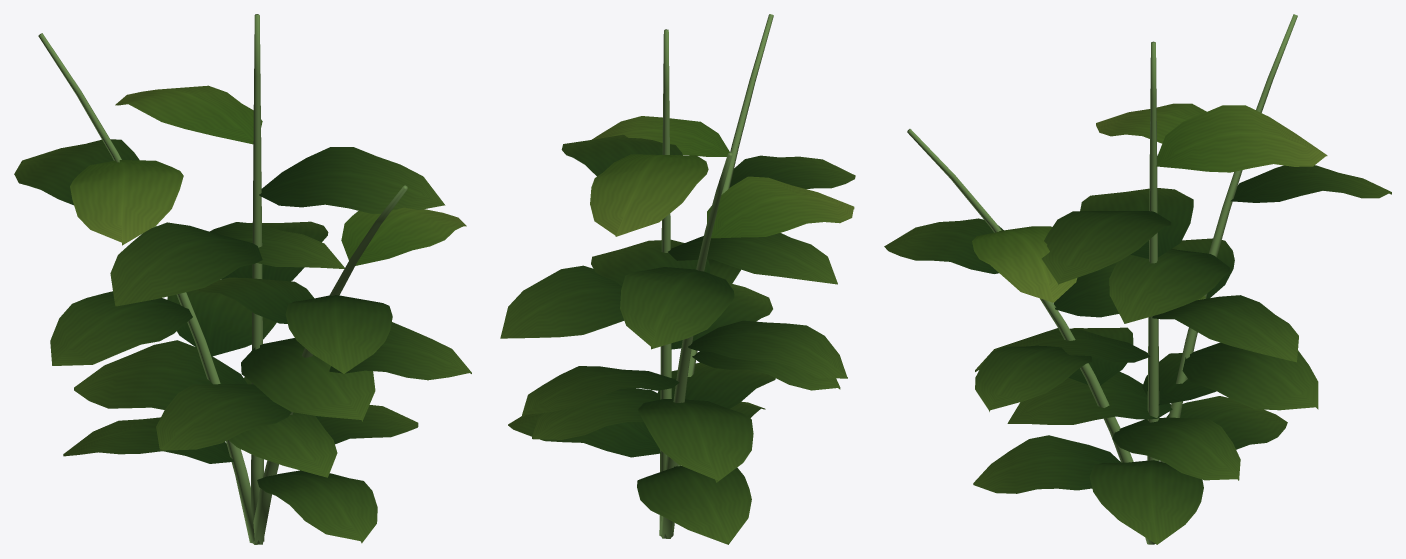
File: poppy-06-lod.glb
3 renders of one model, left to right at view 1: azimuth 30°, elevation 25°; view 2: azimuth 150°, elevation 25°; view 3: azimuth 270°, elevation 25°, orthographic. The views are drawn at different scales.
Visible parts, largest first — view 1: poppy_stage_06_leaf_veins.011, poppy_stage_06_young_leaf.011, poppy_stage_06_stem_fibres.011; view 2: poppy_stage_06_leaf_veins.011, poppy_stage_06_young_leaf.011, poppy_stage_06_stem_fibres.011; view 3: poppy_stage_06_leaf_veins.011, poppy_stage_06_young_leaf.011, poppy_stage_06_stem_fibres.011.
Boxes of the visible parts, x1=… form: poppy_stage_06_leaf_veins.011: x1=14, y1=139, x2=471, y2=543; poppy_stage_06_young_leaf.011: x1=70, y1=85, x2=466, y2=265; poppy_stage_06_stem_fibres.011: x1=38, y1=14, x2=407, y2=544; poppy_stage_06_leaf_veins.011: x1=500, y1=134, x2=855, y2=544; poppy_stage_06_young_leaf.011: x1=590, y1=116, x2=854, y2=238; poppy_stage_06_stem_fibres.011: x1=659, y1=14, x2=773, y2=538; poppy_stage_06_leaf_veins.011: x1=884, y1=165, x2=1391, y2=544; poppy_stage_06_young_leaf.011: x1=972, y1=103, x2=1327, y2=302; poppy_stage_06_stem_fibres.011: x1=907, y1=14, x2=1297, y2=544.
Bounding box in the file's own units: 0.225 × 0.315 × 0.2896.
3 materials, 2 textured.
